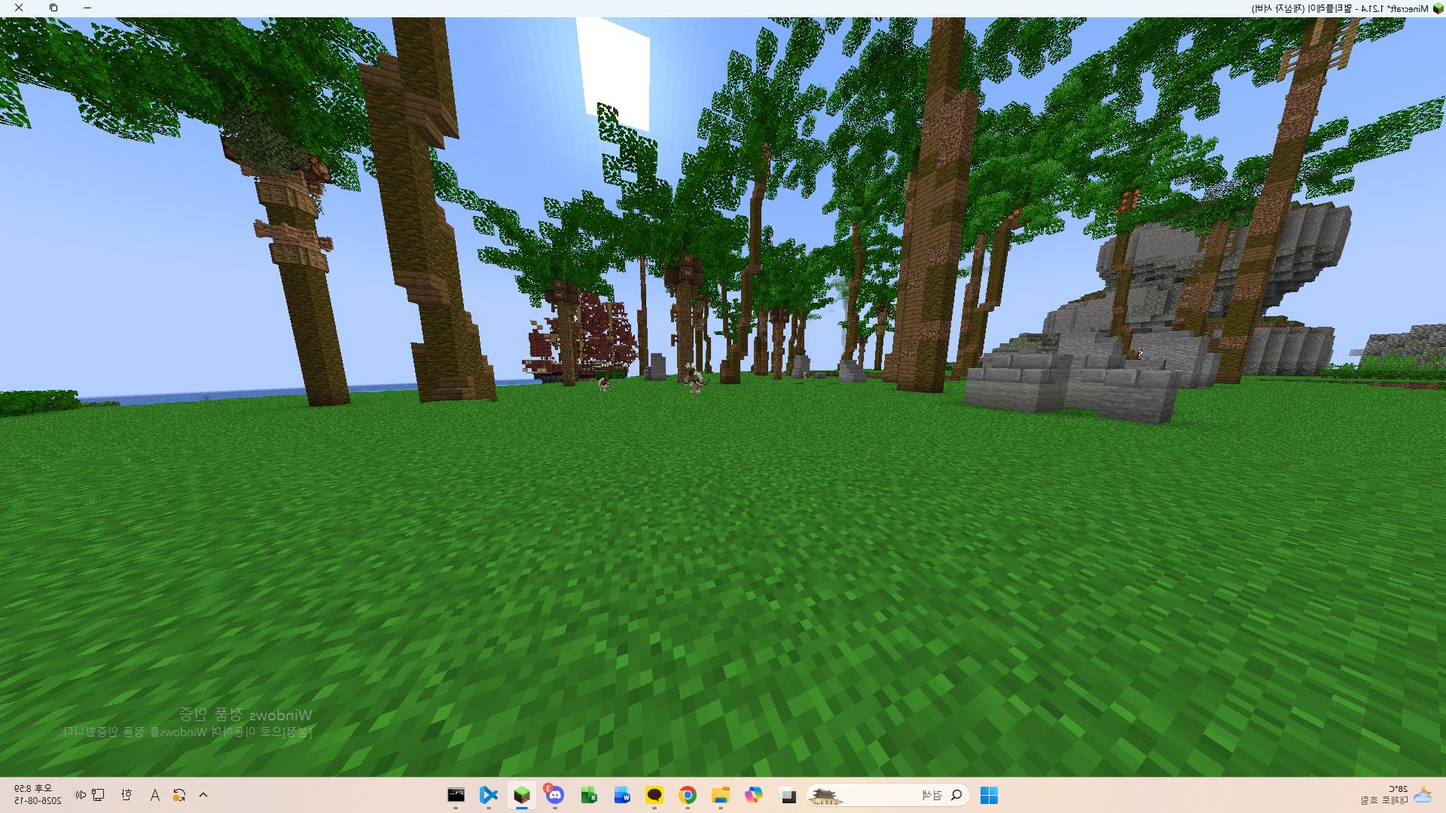bow_indian: (678, 355, 712, 402)
